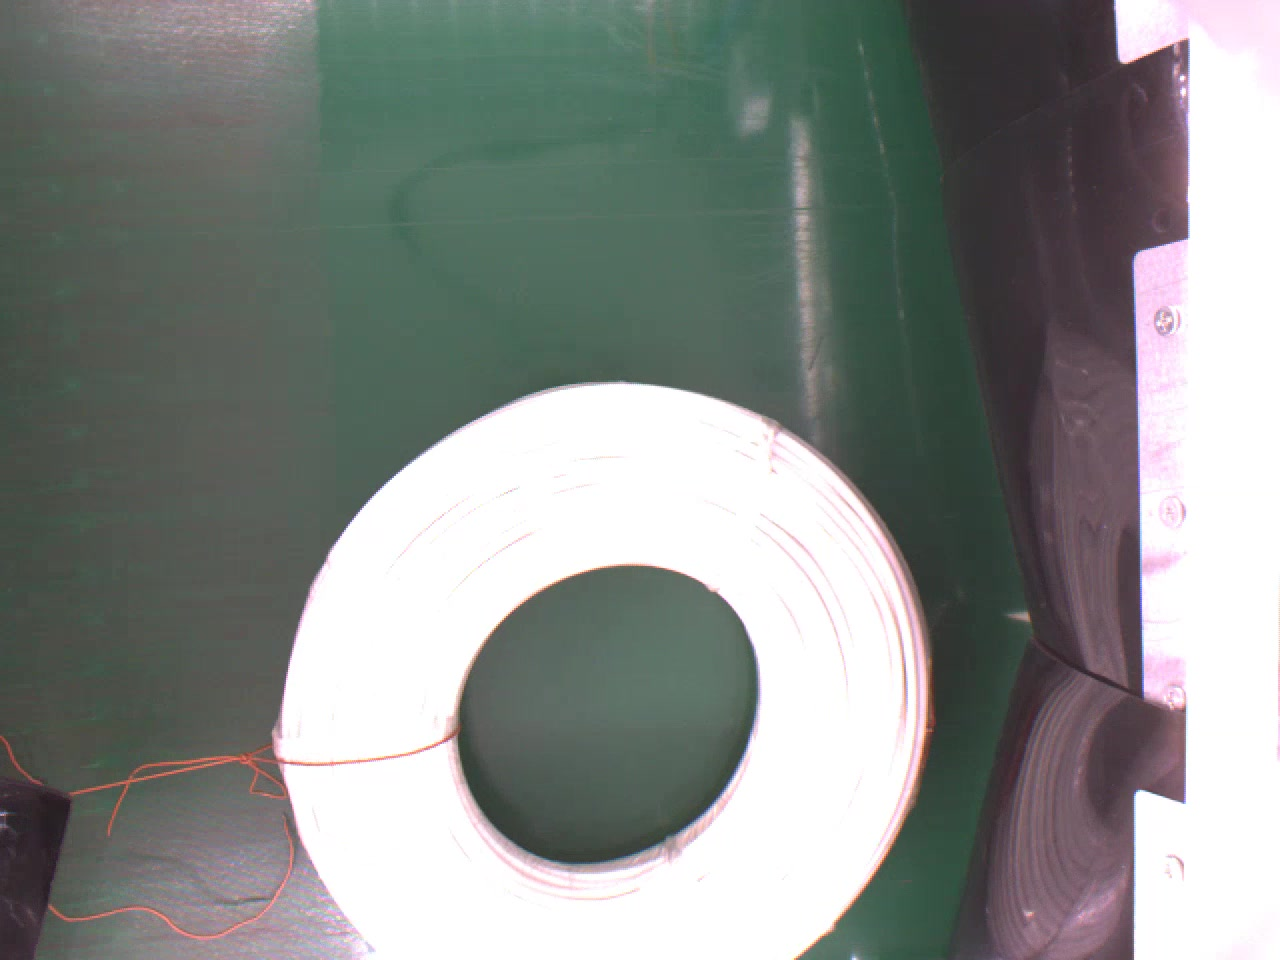white: (268, 378, 944, 960)
